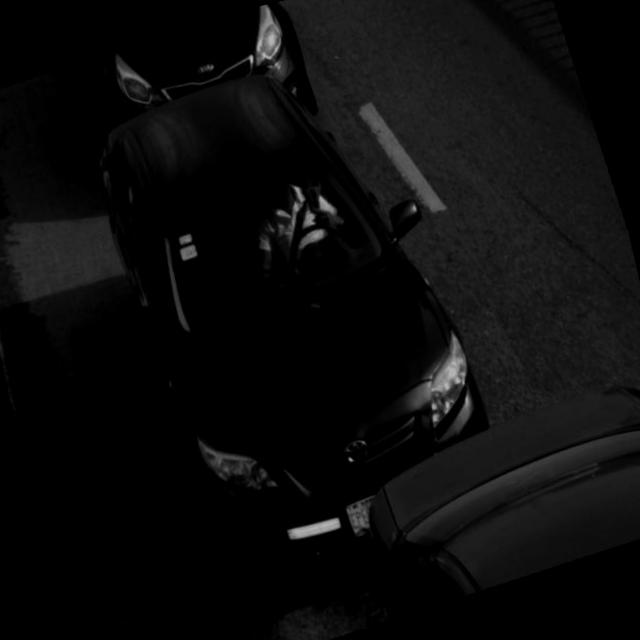person_with_seatbelt: (232, 152, 362, 291)
